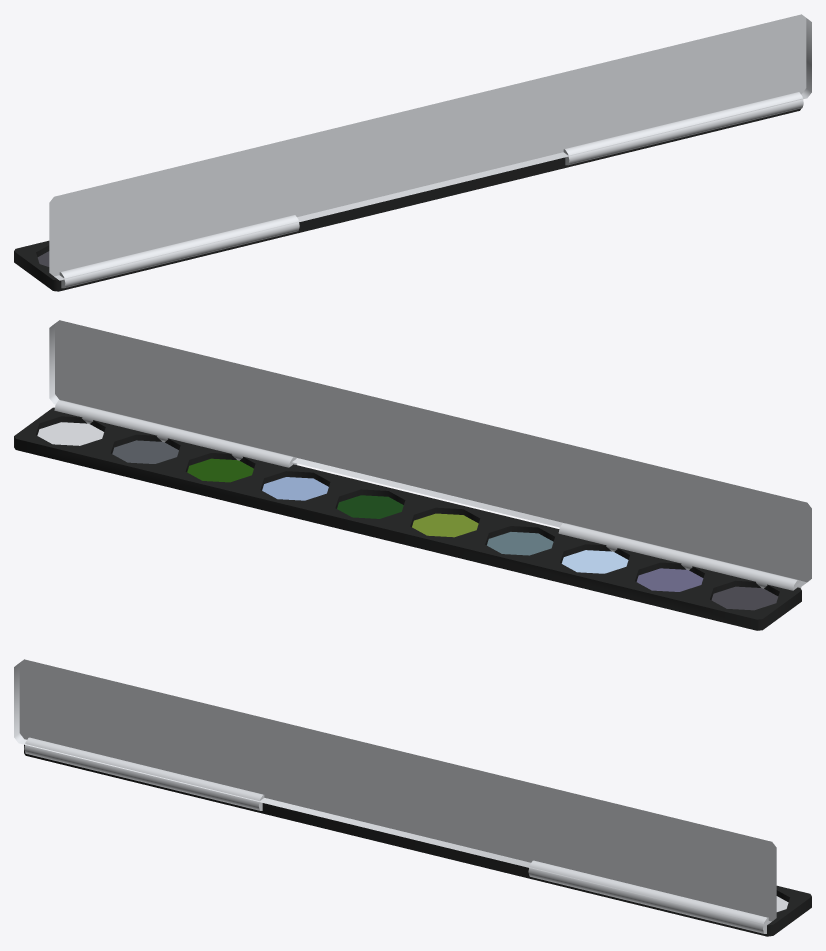
Rendered from Make Up Pallete Open-sSg1Dwf1Ts.glb.
3 renders of one model, top to bottom at view 1: azimuth 30°, elevation 25°; view 2: azimuth 150°, elevation 25°; view 3: azimuth 330°, elevation 25°, orthographic.
Visible parts, largest first — view 1: make up_pallete_open.005; view 2: make up_pallete_open.005; view 3: make up_pallete_open.005.
Part boxes in pixels (box(x1,y1,x2,y2)): make up_pallete_open.005: box(14, 14, 811, 291); make up_pallete_open.005: box(14, 320, 811, 630); make up_pallete_open.005: box(14, 659, 811, 936).
Bounding box in the file's own units: 46.43 × 5.53 × 5.02.
2 materials, 2 textured.
